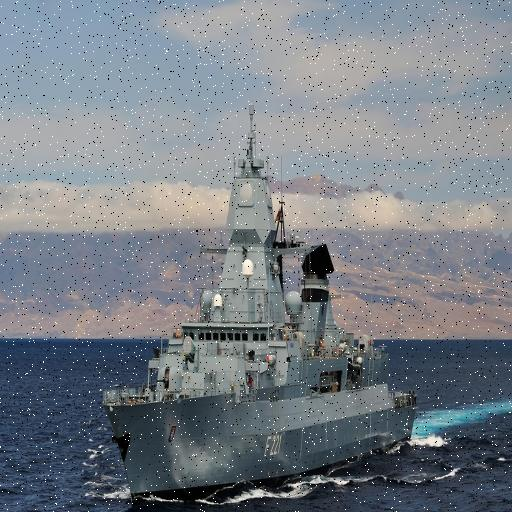Fragata: (103, 1, 422, 324)
